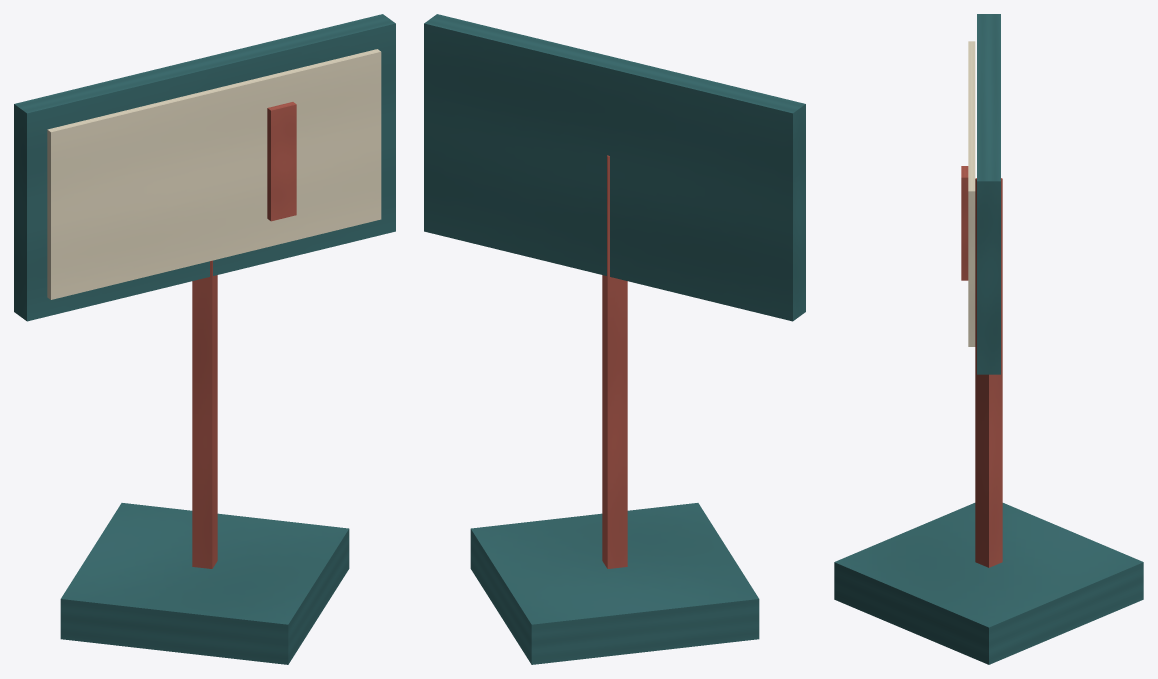
The model's file is atlas100-s033-a11.lod2.glb.
3 views of the same model, side by side, from view 1: azimuth 30°, elevation 25°; view 2: azimuth 150°, elevation 25°; view 3: azimuth 270°, elevation 25° (orthographic). The views are drawn at different scales.
Visible parts, largest first — view 1: atlas100-s033-a11:part-003, atlas100-s033-a11:part-000, atlas100-s033-a11:part-002, atlas100-s033-a11:part-001, atlas100-s033-a11:part-006; view 2: atlas100-s033-a11:part-002, atlas100-s033-a11:part-000, atlas100-s033-a11:part-001; view 3: atlas100-s033-a11:part-000, atlas100-s033-a11:part-002, atlas100-s033-a11:part-001, atlas100-s033-a11:part-003, atlas100-s033-a11:part-006.
Boxes of the visible parts, x1,y1,x2,y2 form: atlas100-s033-a11:part-003: [47, 49, 381, 299]; atlas100-s033-a11:part-000: [60, 503, 349, 664]; atlas100-s033-a11:part-002: [14, 14, 395, 321]; atlas100-s033-a11:part-001: [192, 260, 217, 568]; atlas100-s033-a11:part-006: [267, 102, 296, 221]; atlas100-s033-a11:part-002: [424, 14, 805, 321]; atlas100-s033-a11:part-000: [470, 503, 759, 664]; atlas100-s033-a11:part-001: [602, 155, 627, 568]; atlas100-s033-a11:part-000: [834, 503, 1143, 664]; atlas100-s033-a11:part-002: [977, 14, 1000, 374]; atlas100-s033-a11:part-001: [975, 178, 1002, 567]; atlas100-s033-a11:part-003: [968, 41, 975, 346]; atlas100-s033-a11:part-006: [961, 166, 968, 280].
Size of the model in its own units: 1.15 by 1.61 by 0.9.
3 materials, 3 textured.
